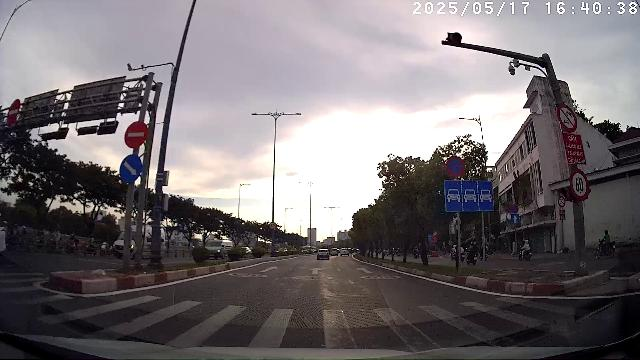102-cam-di-nguoc-chieu: (124, 121, 148, 149), (7, 98, 20, 126)
127-toc-do-toi-da-60: (569, 168, 590, 200)
130-cam-dung-va-do-xe: (446, 155, 466, 177)
302a-huong-phai-di-vong-chuong-ngai-vat-1: (119, 154, 143, 184)
